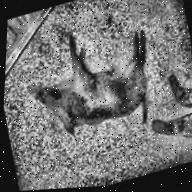boar: (16, 8, 182, 150)
